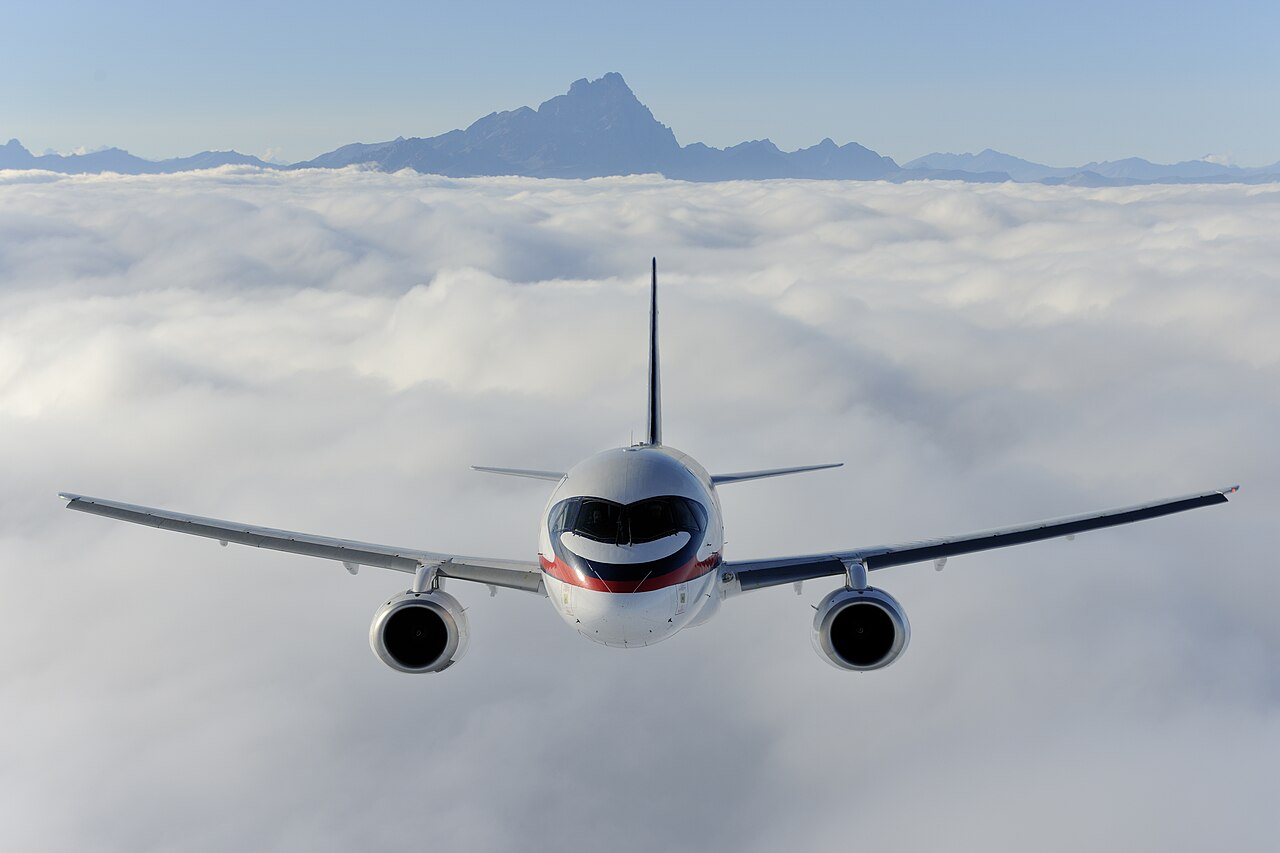aircraft: (56, 254, 1244, 677)
